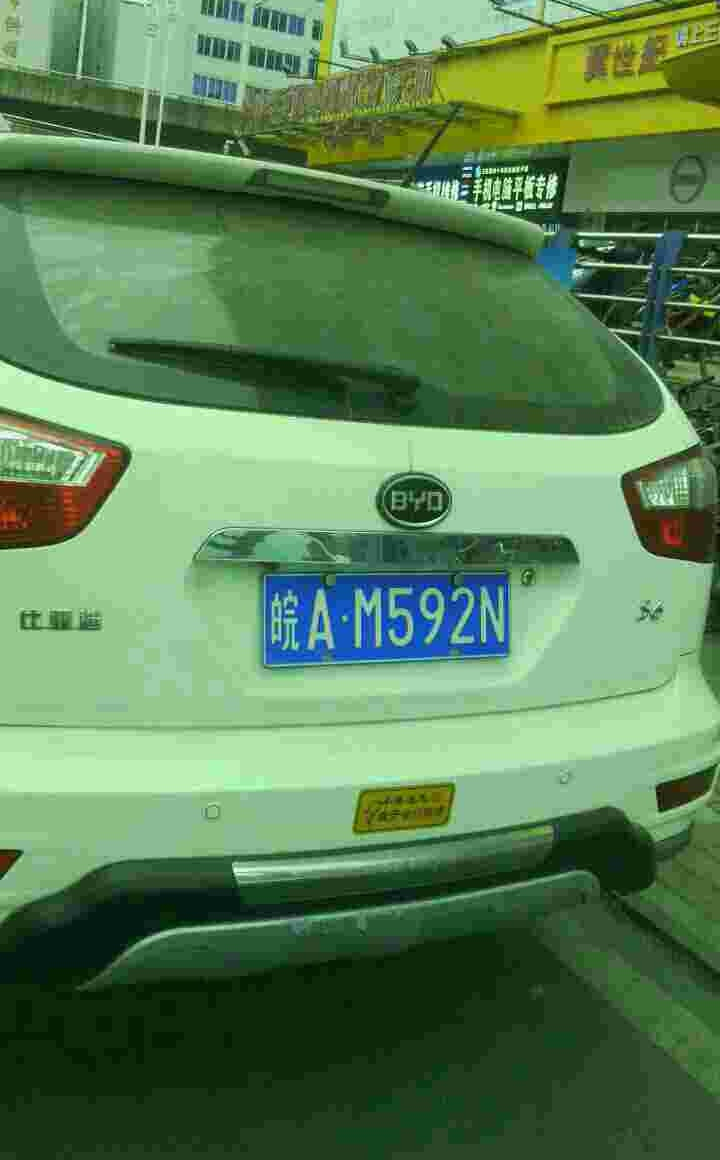license_plate: (263, 573, 513, 669)
